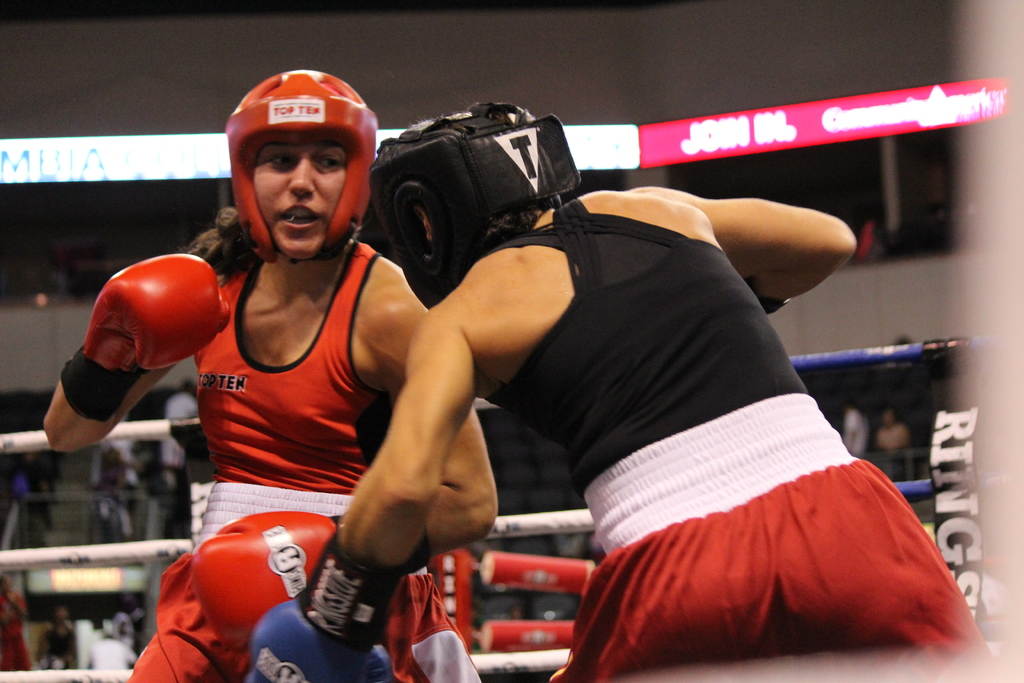Person: (0, 68, 1009, 683)
